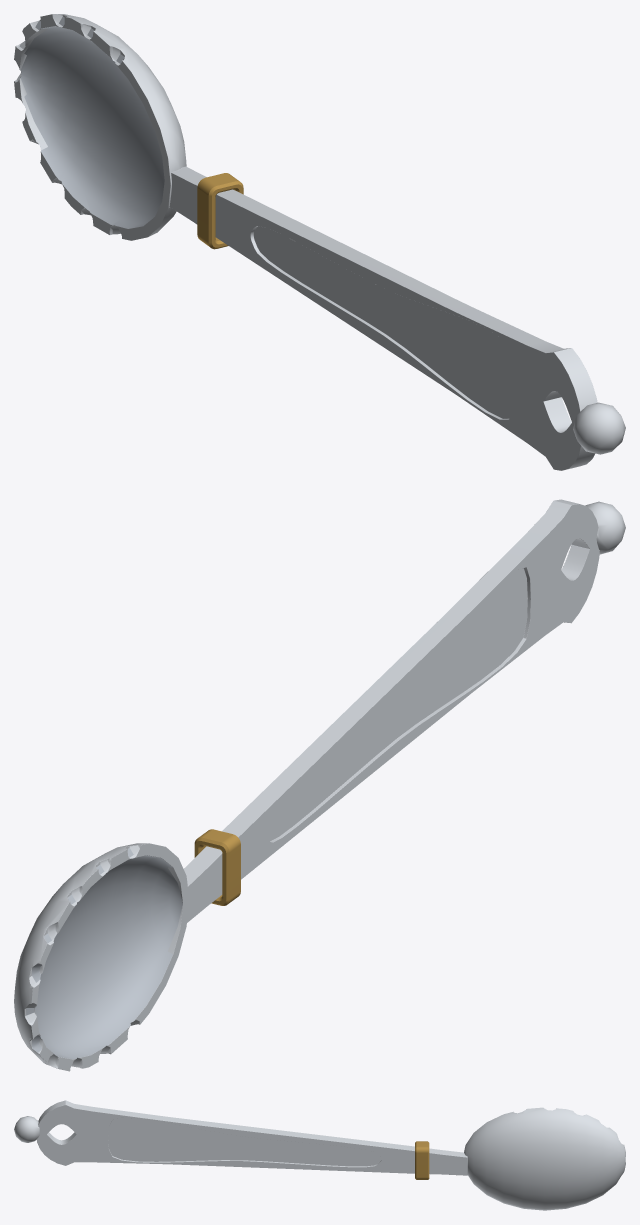
File: w_spoon.glb
The picture shows the model from 3 angles, top to bottom: view 1: azimuth 30°, elevation 25°; view 2: azimuth 150°, elevation 25°; view 3: azimuth 270°, elevation 25°; orthographic projection. The views are drawn at different scales.
Visible parts, largest first — view 1: spoon_wzA, bowl_wzB, collar_wzN; view 2: spoon_wzA, bowl_wzB, collar_wzN; view 3: spoon_wzA, collar_wzN.
Part boxes in pixels (x1,y1,x2,y2): spoon_wzA: (14, 14, 625, 470); bowl_wzB: (18, 16, 164, 228); collar_wzN: (197, 173, 243, 249); spoon_wzA: (14, 499, 625, 1071); bowl_wzB: (26, 848, 182, 1059); collar_wzN: (194, 829, 240, 905); spoon_wzA: (14, 1100, 625, 1210); collar_wzN: (415, 1141, 429, 1179).
Bounding box in the file's own units: 0.0163 × 0.0504 × 0.2568.
